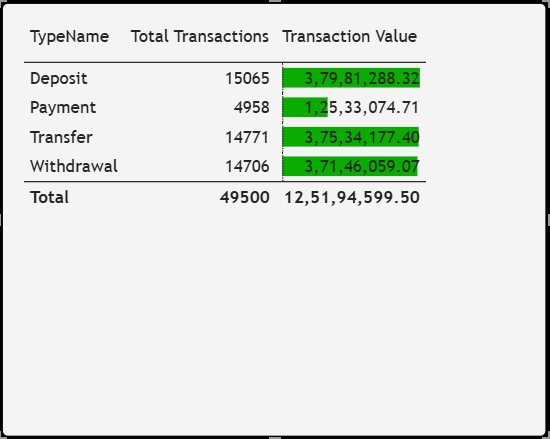

The page's visual inventory and layout, read from the dashboard file:
{"tool":"powerbi","page":{"name":"TRANSACTION TOOLTIP","canvas":[400,300],"ordinal":1},"visuals":[{"type":"cardVisual","fields":{"Rows":["Transaction Types.TypeName"]},"box":[10,0,190,150],"z":0},{"type":"cardVisual","fields":{"Data":["Transactions.Total Transaction Value"]},"box":[10,150,190,150],"z":1000},{"type":"cardVisual","fields":{"Data":["Transactions.Total Transactions"]},"box":[210,150,190,150],"z":2000}]}

Visuals, with their boxes on the page's 400x300 design canvas (x1, y1, x2, y2). These are canvas units, not pixel positions in the 550x439 screenshot, which may show the page scaled, cropped or inside an application window:
cardVisual - Transaction Types.TypeName: [left=10, top=0, right=200, bottom=150]
cardVisual - Transactions.Total Transaction Value: [left=10, top=150, right=200, bottom=300]
cardVisual - Transactions.Total Transactions: [left=210, top=150, right=400, bottom=300]
